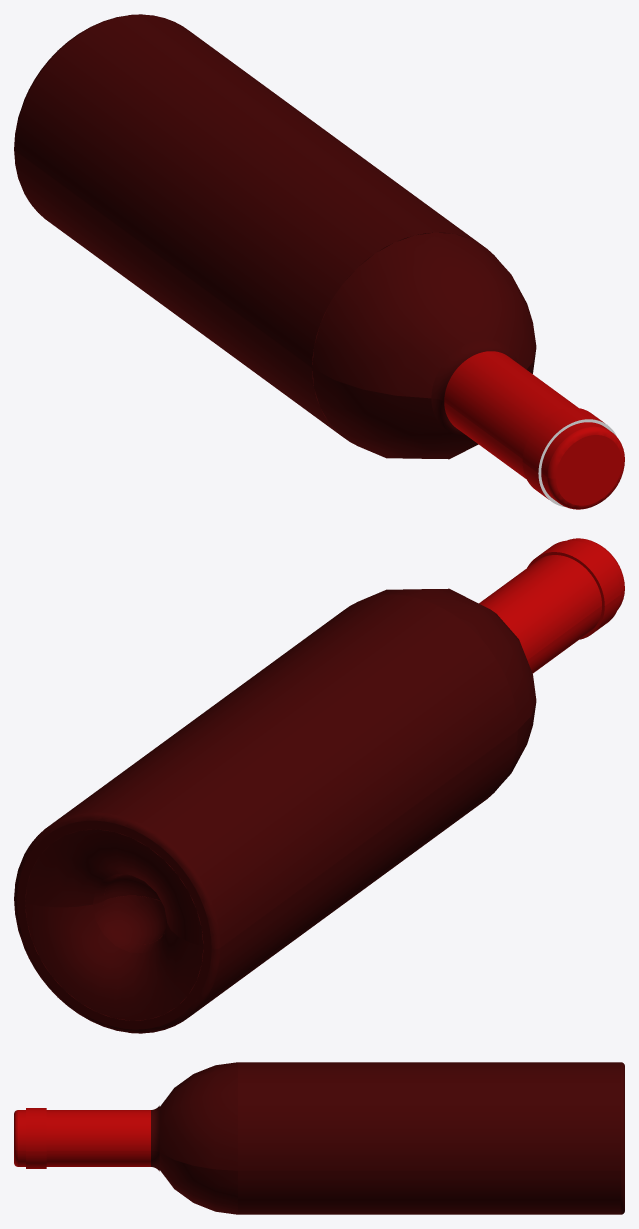
File: bottle-of-bourdaux.gltf
3 views of the same model, one above another, from view 1: azimuth 30°, elevation 25°; view 2: azimuth 150°, elevation 25°; view 3: azimuth 270°, elevation 25° (orthographic). The views are drawn at different scales.
Parts seen in each view (by area): view 1: FACE.021, FACE.005, FACE.006, FACE.009, FACE.019, FACE.008, FACE, FACE.014, FACE.004, FACE.016; view 2: FACE.021, FACE.006, FACE.025, FACE.017, FACE.019, FACE.007, FACE.005, FACE.020, FACE.002, FACE, FACE.011, FACE.004 (+2 smaller); view 3: FACE.021, FACE.006, FACE.005, FACE.019, FACE.009, FACE.004, FACE, FACE.020, FACE.014, FACE.024, FACE.013.
Boxes of the visible parts, x1,y1,x2,y2 form: FACE.021: [14, 15, 498, 367]; FACE.005: [312, 232, 536, 398]; FACE.006: [14, 150, 407, 444]; FACE.009: [312, 348, 536, 459]; FACE.019: [444, 351, 578, 458]; FACE.008: [556, 435, 621, 505]; FACE: [522, 407, 604, 472]; FACE.014: [431, 339, 518, 401]; FACE.004: [444, 402, 526, 478]; FACE.016: [547, 426, 624, 478]; FACE.021: [26, 594, 517, 947]; FACE.006: [25, 730, 517, 1020]; FACE.025: [25, 903, 203, 1020]; FACE.017: [25, 829, 203, 946]; FACE.019: [479, 555, 601, 659]; FACE.007: [17, 820, 211, 1029]; FACE.005: [362, 588, 536, 729]; FACE.020: [14, 812, 220, 949]; FACE.002: [103, 896, 166, 944]; FACE: [539, 540, 620, 605]; FACE.011: [14, 900, 220, 1033]; FACE.004: [527, 606, 601, 673]; FACE.021: [238, 1062, 620, 1170]; FACE.006: [238, 1170, 620, 1214]; FACE.005: [159, 1062, 237, 1170]; FACE.019: [46, 1110, 150, 1150]; FACE.009: [159, 1153, 237, 1214]; FACE.004: [46, 1150, 150, 1166]; FACE: [26, 1108, 46, 1151]; FACE.020: [621, 1062, 624, 1170]; FACE.014: [151, 1105, 159, 1152]; FACE.024: [26, 1151, 46, 1168]; FACE.013: [18, 1110, 25, 1150].
Bounding box in the file's own units: 0.075 × 0.075 × 0.3.
